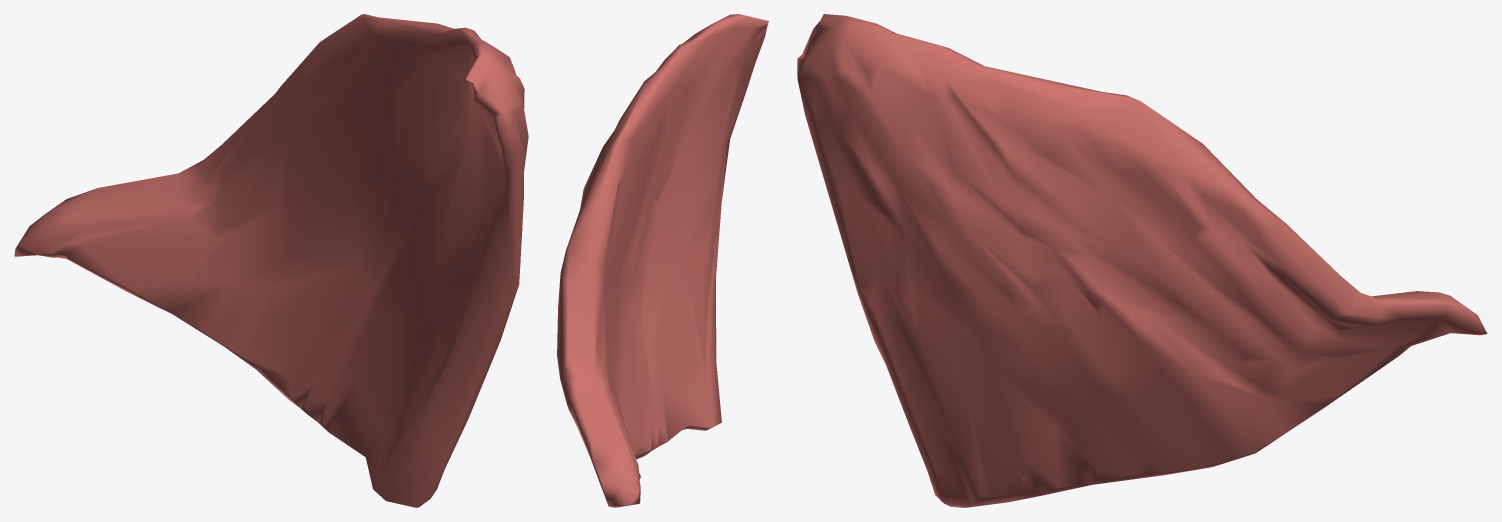
The picture shows the model from 3 angles, left to right: view 1: azimuth 30°, elevation 25°; view 2: azimuth 150°, elevation 25°; view 3: azimuth 270°, elevation 25°; orthographic projection. The views are drawn at different scales.
Parts seen in each view (by area): view 1: 左侧颊肌; view 2: 左侧颊肌; view 3: 左侧颊肌.
Boxes of the visible parts, left/top/right/bottom form: 左侧颊肌: left=14, top=14, right=528, bottom=507; 左侧颊肌: left=557, top=14, right=768, bottom=507; 左侧颊肌: left=797, top=14, right=1487, bottom=507.
Size of the model in its own units: 0.0221 by 0.0426 by 0.0535.
